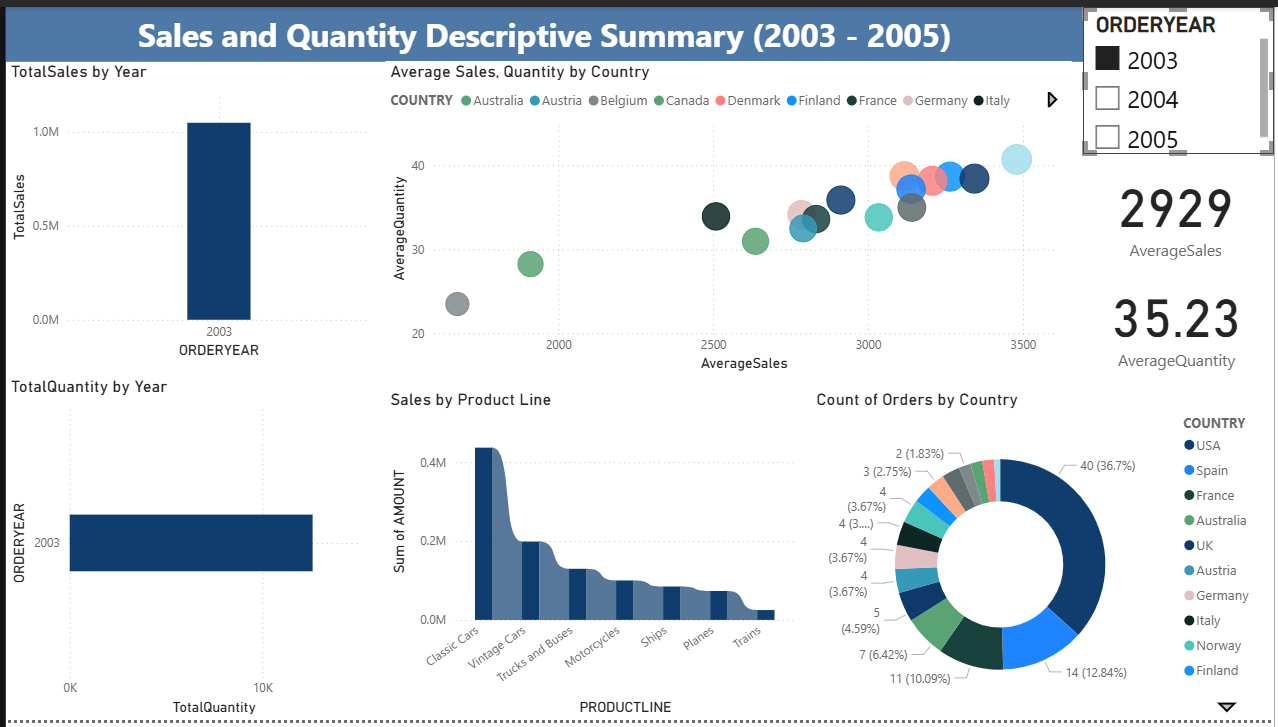

This screenshot's page, from the dashboard's own definition file:
{"tool":"powerbi","page":{"name":"Page 1","canvas":[1280,720],"ordinal":0},"visuals":[{"type":"columnChart","title":"TotalSales by Year","fields":{"Category":["orders.ORDERYEAR Hierarchy.ORDERYEAR","orders.ORDERYEAR Hierarchy.ORDERQUARTER","orders.ORDERYEAR Hierarchy.ORDERMONTH","orders.ORDERYEAR Hierarchy.ORDERDAY","orders.ORDERYEAR Hierarchy.AMOUNT"],"Y":["orders.TotalSales"]},"box":[0,55.3,371.2,303.9],"z":0},{"type":"textbox","box":[0,0,1087.8,55.3],"z":1000},{"type":"clusteredBarChart","title":"TotalQuantity by Year","fields":{"Category":["orders.ORDERYEAR Hierarchy.ORDERYEAR","orders.ORDERYEAR Hierarchy.ORDERQUARTER","orders.ORDERYEAR Hierarchy.ORDERMONTH","orders.ORDERYEAR Hierarchy.ORDERDAY","orders.ORDERYEAR Hierarchy.AMOUNT"],"Y":["orders.TotalQuantity"]},"box":[0,372.8,370.6,346],"z":2000},{"type":"slicer","fields":{"Values":["orders.ORDERYEAR"]},"box":[1087.8,0,191.7,148.5],"z":3000},{"type":"donutChart","title":"Count of Orders by Country","fields":{"Category":["customers.COUNTRY"],"Y":["CountNonNull(customers.ORDERNUMBER)"]},"box":[813.2,386.8,466.2,333.2],"z":4000},{"type":"ribbonChart","title":"Sales by Product Line","fields":{"Category":["orders.PRODUCTLINE"],"Y":["Sum(orders.AMOUNT)"]},"box":[383.3,386.8,417.8,333.2],"z":5000},{"type":"card","fields":{"Values":["orders.AverageSales"]},"box":[1087.8,153.7,186.5,107.1],"z":6000},{"type":"card","fields":{"Values":["orders.AverageQuantity"]},"box":[1087.8,260.7,188.2,114],"z":7000},{"type":"scatterChart","title":"Average Sales, Quantity by Country","fields":{"X":["orders.AverageSales"],"Y":["orders.AverageQuantity"],"Category":["customers.COUNTRY"],"Series":["customers.COUNTRY"],"Size":["orders.AverageQuantity"]},"box":[383.3,55.3,692.4,317.7],"z":8000}]}

Visuals, with their boxes in screenshot pixels (x1, y1, x2, y2), scaled from the page's 1280x720 canvas onto the 1278x727 screenshot:
"TotalSales by Year" columnChart: (0,56,371,363)
textbox: (0,0,1086,56)
"TotalQuantity by Year" clusteredBarChart: (0,376,370,726)
slicer - orders.ORDERYEAR: (1086,0,1277,150)
"Count of Orders by Country" donutChart: (812,391,1277,726)
"Sales by Product Line" ribbonChart: (383,391,800,726)
card - orders.AverageSales: (1086,155,1272,263)
card - orders.AverageQuantity: (1086,263,1274,378)
"Average Sales, Quantity by Country" scatterChart: (383,56,1074,377)
